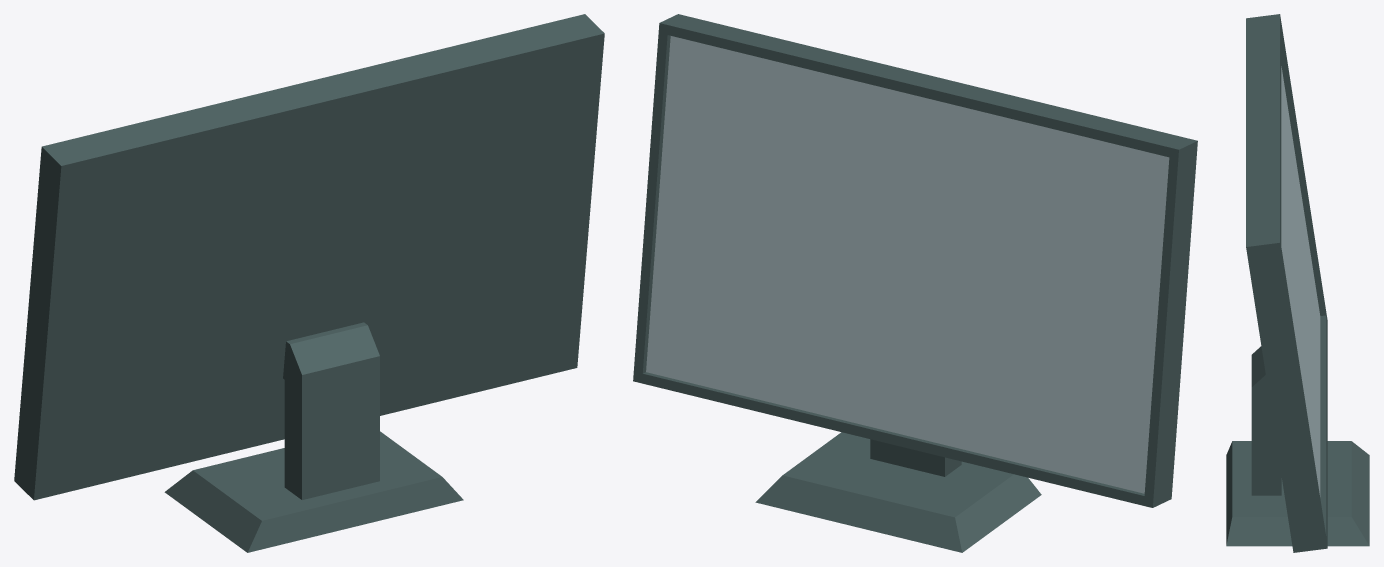
File: computerScreen.fbx
3 renders of one model, left to right at view 1: azimuth 30°, elevation 25°; view 2: azimuth 150°, elevation 25°; view 3: azimuth 270°, elevation 25°, orthographic. The views are drawn at different scales.
Visible parts, largest first — view 1: computerScreen; view 2: computerScreen; view 3: computerScreen.
Boxes of the visible parts, <box> form: computerScreen: <box>14,14,604,552</box>; computerScreen: <box>633,14,1197,552</box>; computerScreen: <box>1226,14,1369,552</box>.
Bounding box in the file's own units: 3.93 × 2.94 × 1.04.
